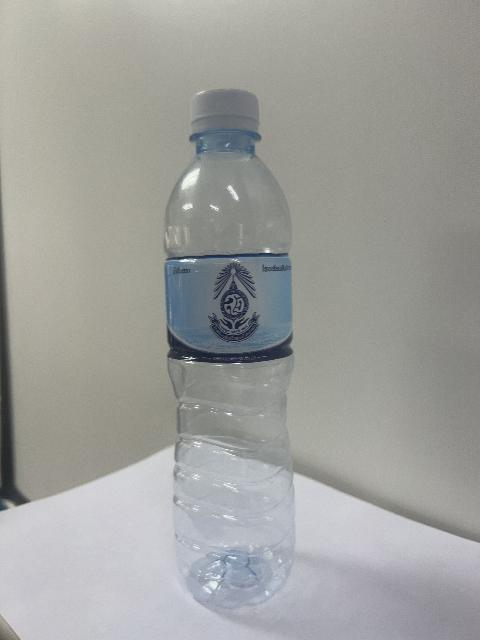bottle: (165, 90, 294, 608)
